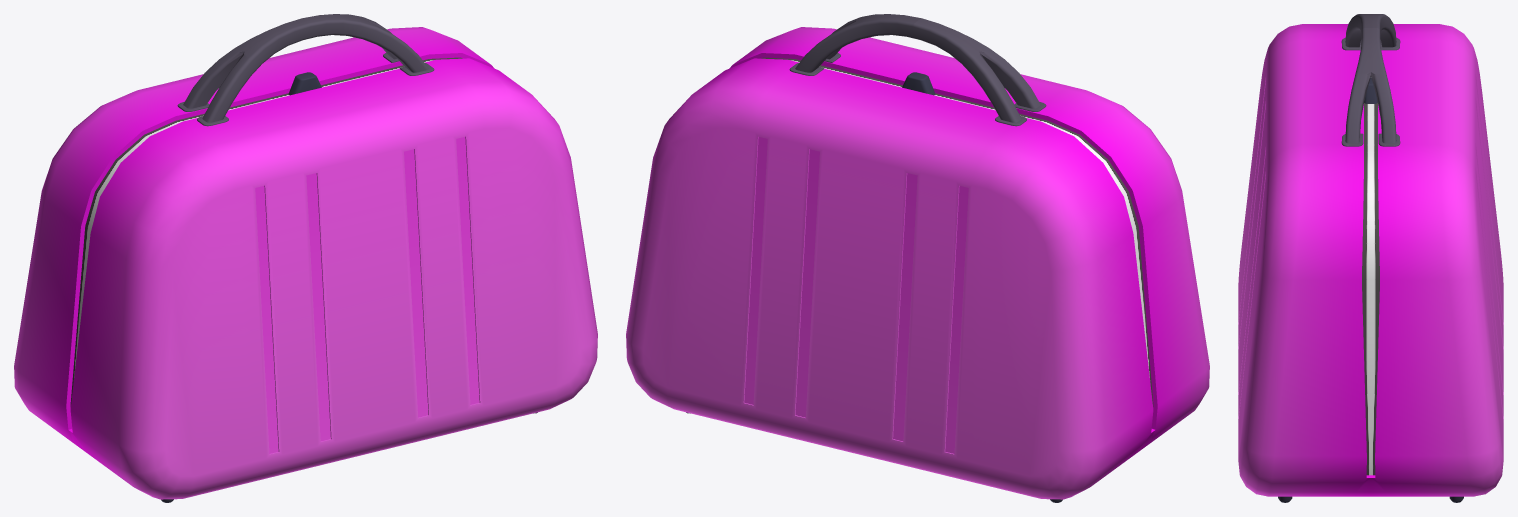
File: Baggage_3_Pink.fbx
The picture shows the model from 3 angles, left to right: view 1: azimuth 30°, elevation 25°; view 2: azimuth 150°, elevation 25°; view 3: azimuth 270°, elevation 25°; orthographic projection. The views are drawn at different scales.
Visible parts, largest first — view 1: Baggage_3_Pink; view 2: Baggage_3_Pink; view 3: Baggage_3_Pink.
Part boxes in pixels (x1,y1,x2,y2): Baggage_3_Pink: (14, 14, 597, 502); Baggage_3_Pink: (626, 14, 1209, 502); Baggage_3_Pink: (1238, 14, 1503, 502).
Bounding box in the file's own units: 60.85 × 49.27 × 30.64.
